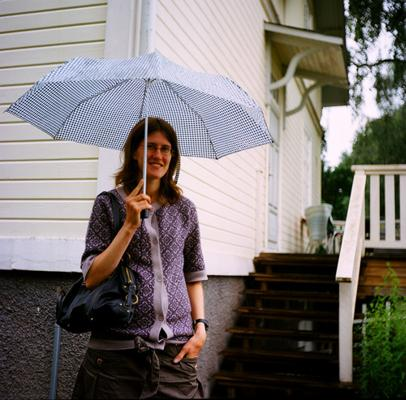person: (71, 118, 209, 400)
